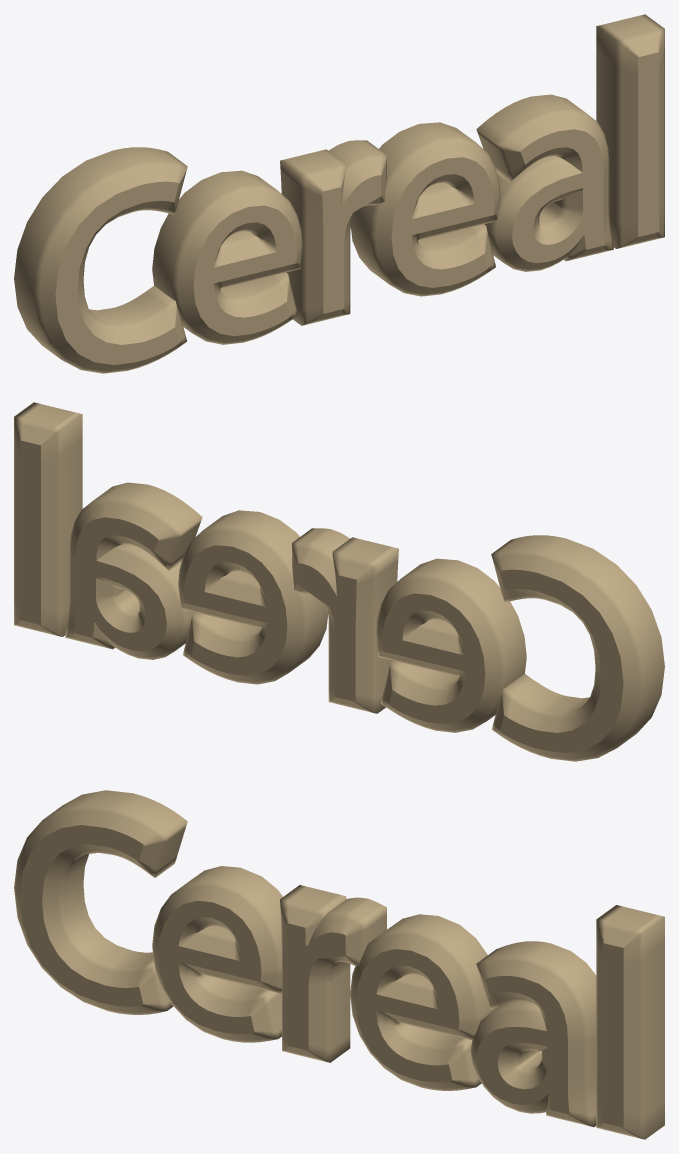
File: cereal.fbx
3 renders of one model, top to bottom at view 1: azimuth 30°, elevation 25°; view 2: azimuth 150°, elevation 25°; view 3: azimuth 330°, elevation 25°, orthographic.
Parts seen in each view (by area): view 1: bevelPolygon12, bevelPolygon13, bevelPolygon15, bevelPolygon16, bevelPolygon17, bevelPolygon14; view 2: bevelPolygon12, bevelPolygon13, bevelPolygon15, bevelPolygon16, bevelPolygon17, bevelPolygon14; view 3: bevelPolygon12, bevelPolygon16, bevelPolygon15, bevelPolygon13, bevelPolygon17, bevelPolygon14.
Boxes of the visible parts, bbox=[...] form: bevelPolygon12: bbox=[14, 147, 187, 373]; bevelPolygon13: bbox=[152, 170, 302, 344]; bevelPolygon15: bbox=[351, 122, 500, 296]; bevelPolygon16: bbox=[476, 94, 613, 271]; bevelPolygon17: bbox=[596, 14, 664, 248]; bevelPolygon14: bbox=[280, 140, 386, 325]; bevelPolygon12: bbox=[491, 535, 664, 761]; bevelPolygon13: bbox=[376, 558, 526, 732]; bevelPolygon15: bbox=[178, 510, 327, 684]; bevelPolygon16: bbox=[65, 482, 202, 659]; bevelPolygon17: bbox=[14, 402, 82, 636]; bevelPolygon14: bbox=[292, 528, 398, 713]; bevelPolygon12: bbox=[14, 790, 187, 1014]; bevelPolygon16: bbox=[470, 941, 596, 1126]; bevelPolygon15: bbox=[350, 914, 499, 1090]; bevelPolygon13: bbox=[152, 866, 282, 1042]; bevelPolygon17: bbox=[596, 905, 664, 1139]; bevelPolygon14: bbox=[280, 885, 386, 1062].
Bounding box in the file's own units: 0.046 × 0.0147 × 0.0045.
